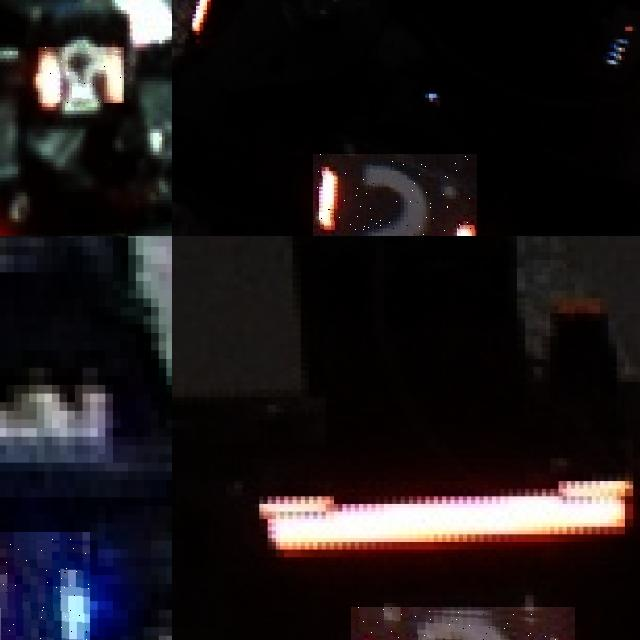B1: (0, 532, 90, 640)
R2: (312, 154, 477, 236), (350, 606, 575, 640)
Rs: (38, 48, 124, 104)
